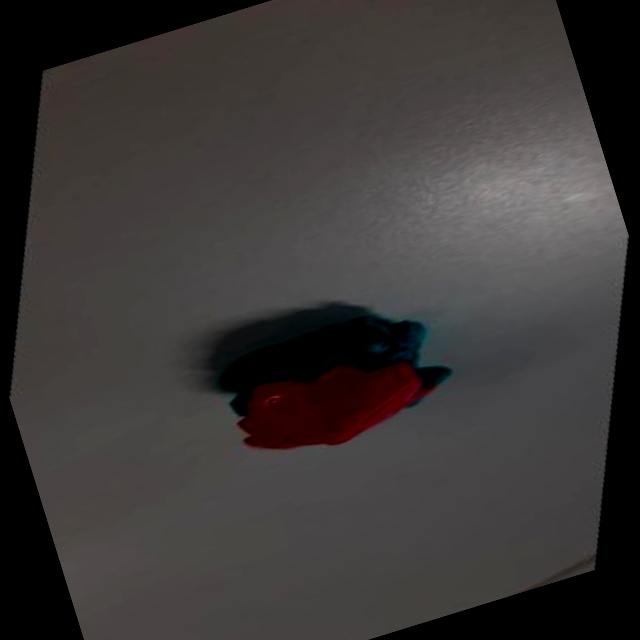House: (160, 274, 490, 499)
